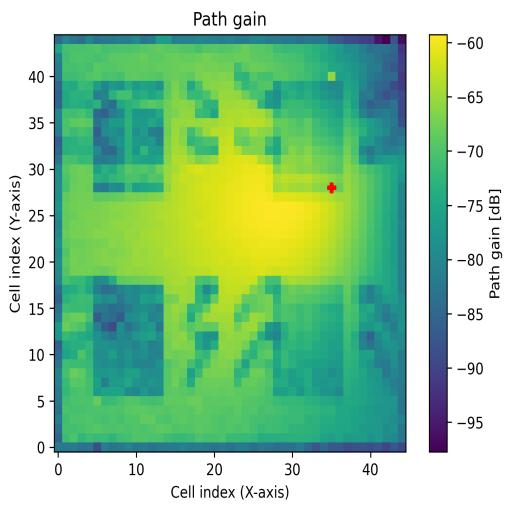Concrete: (273, 81, 343, 194)
Glass: (93, 81, 165, 194)
Metal: (274, 286, 344, 397)
Wood: (93, 284, 164, 396)
